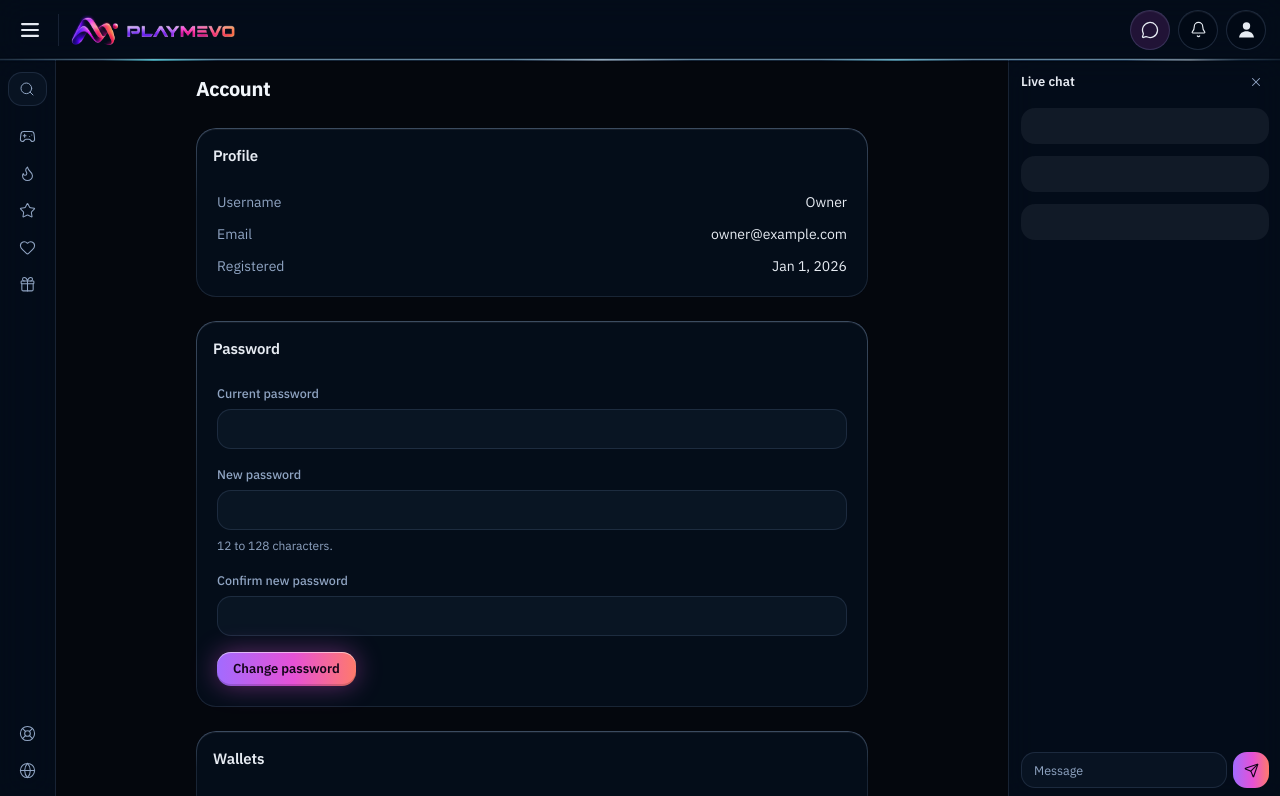
Test: the account password form › places server credential errors beside the current password
This screenshot has width=1280, height=796.
Type "current-password" into the password field labelled "Current password".
click(532, 429); type("current-password")  # box [217,409,847,449]
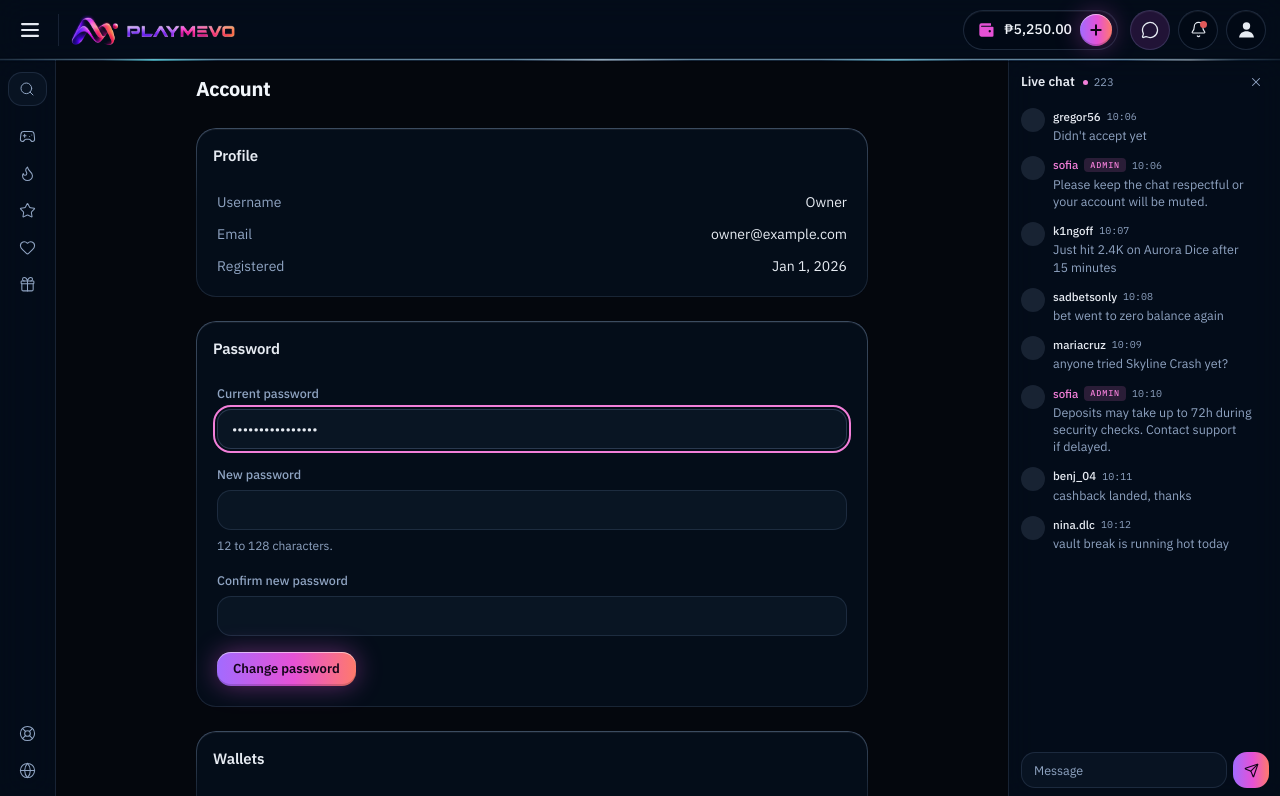
Type "new-secure-password" into the password field labelled "New password".
click(532, 510); type("new-secure-password")  # box [217,490,847,530]
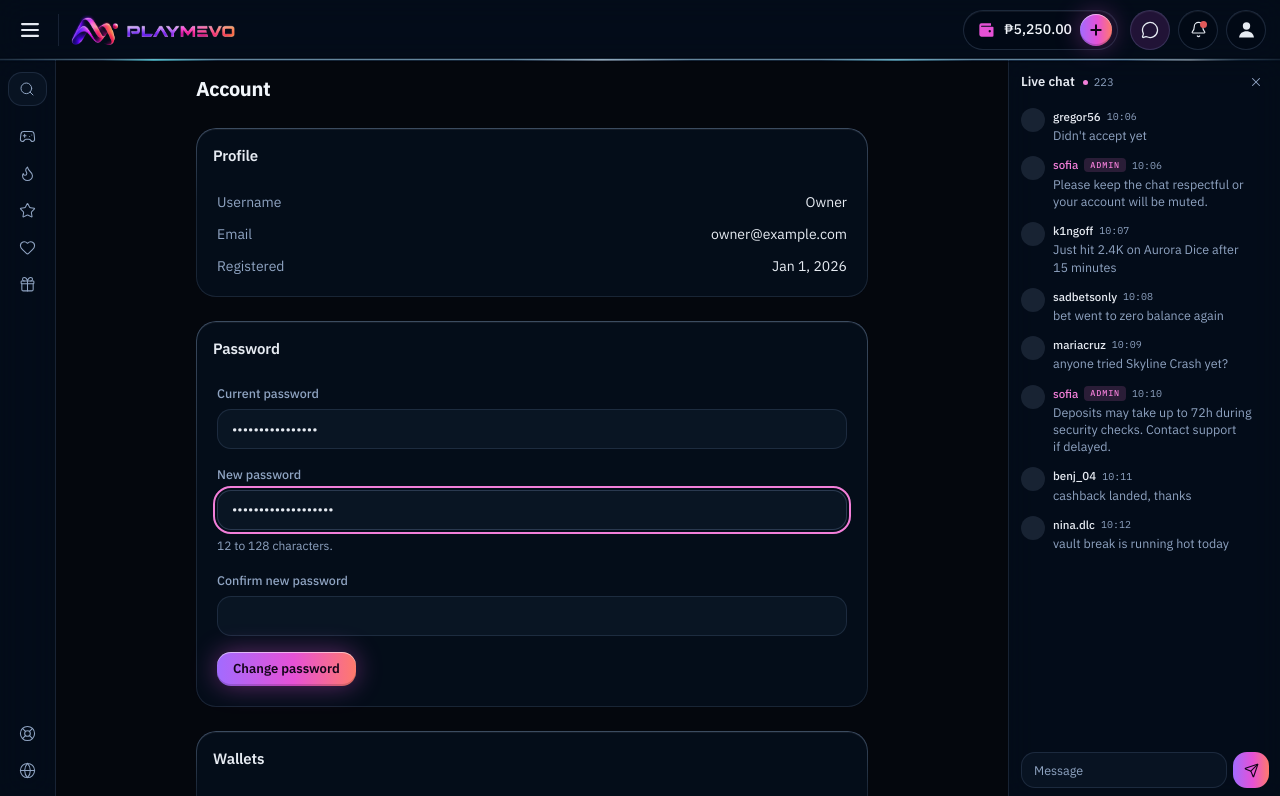
Type "new-secure-password" into the password field labelled "Confirm new password".
click(532, 616); type("new-secure-password")  # box [217,596,847,636]
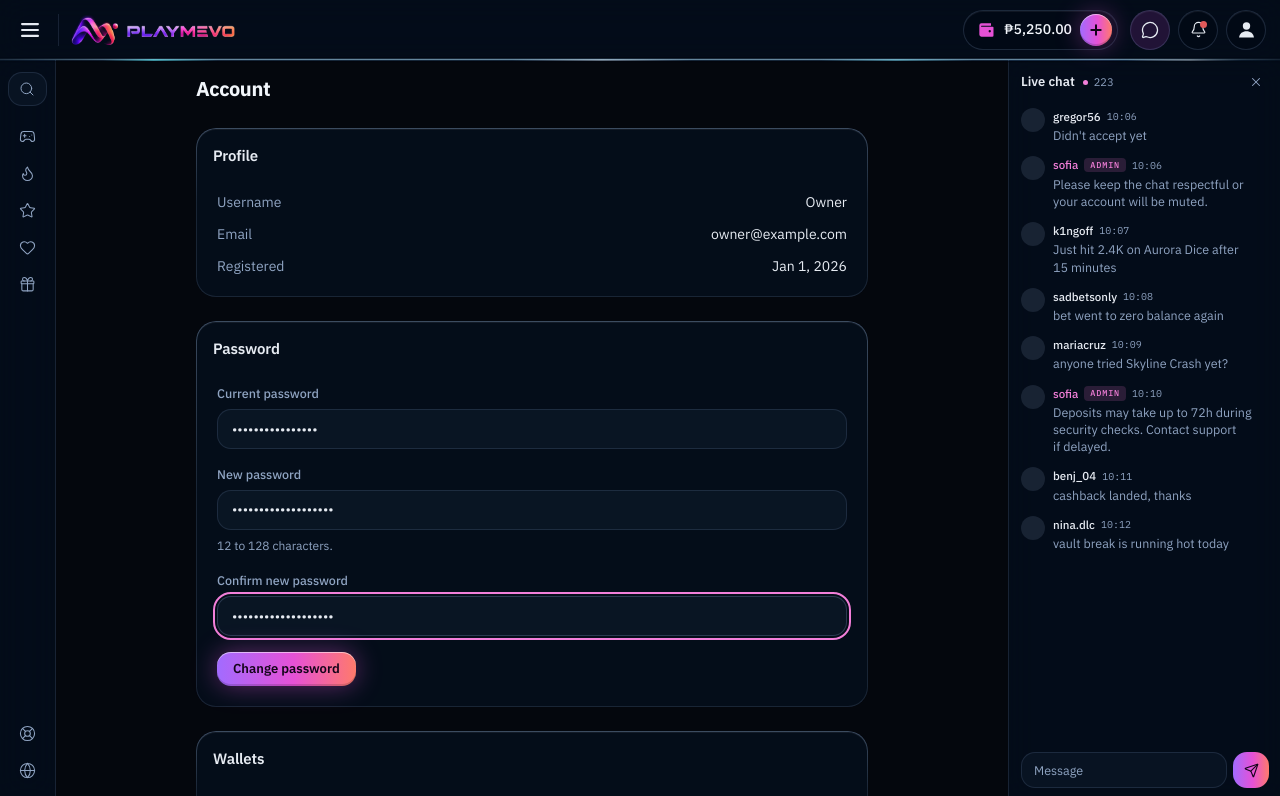
Click the button "Change password".
click(286, 669)  # box [217,652,356,686]
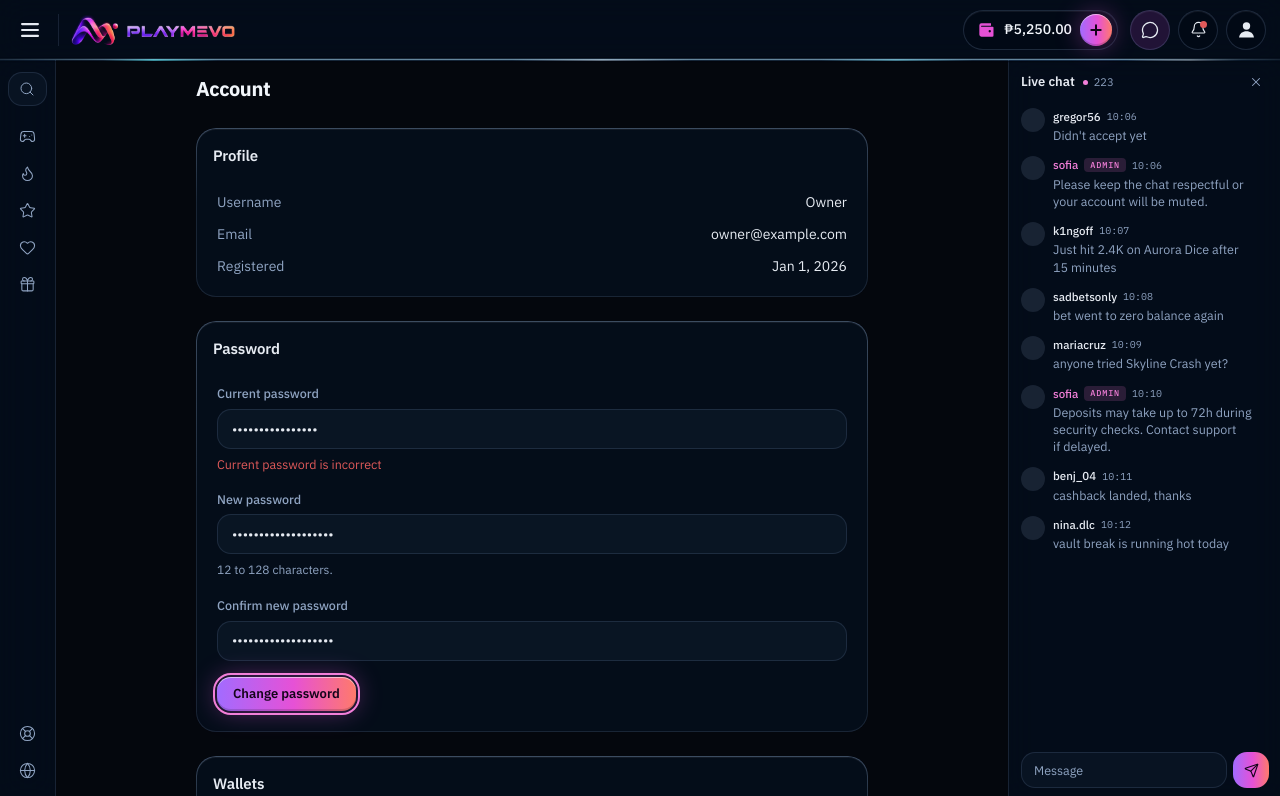
Now the message reads "Current password is incorrect", box [217,456,382,472]
